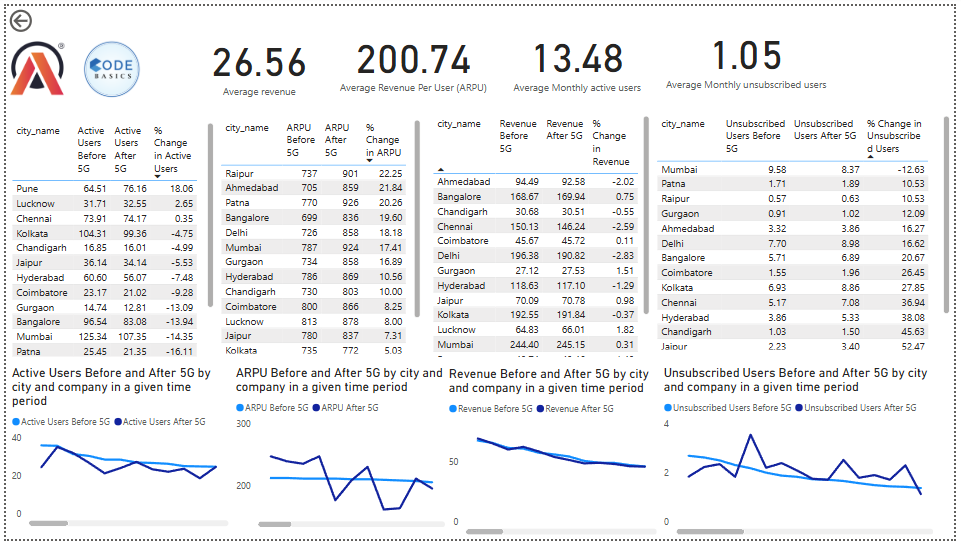

What the dashboard file says about the page in this screenshot:
{"tool":"powerbi","page":{"name":"Before and after 5G (users/revenue)","canvas":[1280,720],"ordinal":0},"visuals":[{"type":"card","fields":{"Values":["fact_atliqo_metrics.Average revenue"]},"box":[247.1,10,190,135.7],"z":0},{"type":"image","box":[0,40.4,86.2,86.2],"z":1000},{"type":"image","box":[77.2,40.4,132.9,89.8],"z":2000},{"type":"card","fields":{"Values":["fact_atliqo_metrics.Monthly unsubscribed users"]},"box":[884.3,0,232.9,135.7],"z":3000},{"type":"card","fields":{"Values":["fact_atliqo_metrics.Monthly active users"]},"box":[668.6,4.3,205.7,135.7],"z":4000},{"type":"card","fields":{"Values":["fact_atliqo_metrics.Average Revenue ARPU"]},"box":[441.4,4.3,217.1,137.1],"z":5000},{"type":"lineChart","title":"Revenue Before and After 5G by city and company in a given time period","fields":{"Y":["fact_atliqo_metrics.Revenue Before 5G","fact_atliqo_metrics.Revenue After 5G"],"Category":["dim_date.time_period","fact_atliqo_metrics.company","dim_cities.city_name"]},"box":[592.9,487.1,291.4,232.9],"z":6000},{"type":"tableEx","fields":{"Values":["dim_cities.city_name","fact_atliqo_metrics.Active Users Before 5G","fact_atliqo_metrics.Active Users After 5G","fact_atliqo_metrics.% Change in Active Users"]},"box":[2.9,152.9,282.9,325.7],"z":7000},{"type":"lineChart","title":"Unsubscribed Users Before and After 5G by city and company in a given time period","fields":{"Y":["fact_atliqo_metrics.Unsubscribed Users Before 5G","fact_atliqo_metrics.Unsubscribed Users After 5G"],"Category":["dim_date.time_period","fact_atliqo_metrics.company","dim_cities.city_name"]},"box":[884.3,485.7,374.3,234.3],"z":8000},{"type":"lineChart","title":"ARPU Before and After 5G by city and company in a given time period","fields":{"Y":["fact_atliqo_metrics.ARPU Before 5G","fact_atliqo_metrics.ARPU After 5G"],"Category":["dim_date.time_period","fact_atliqo_metrics.company","dim_cities.city_name"]},"box":[305.7,485.7,292.9,224.3],"z":9000},{"type":"lineChart","title":"Active Users Before and After 5G by city and company in a given time period","fields":{"Y":["fact_atliqo_metrics.Active Users Before 5G","fact_atliqo_metrics.Active Users After 5G"],"Category":["dim_date.time_period","fact_atliqo_metrics.company","dim_cities.city_name"]},"box":[2.9,485.7,302.9,222.9],"z":10000},{"type":"actionButton","box":[0,0,100,40],"z":11000},{"type":"tableEx","fields":{"Values":["dim_cities.city_name","fact_atliqo_metrics.ARPU Before 5G","fact_atliqo_metrics.ARPU After 5G","fact_atliqo_metrics.% Change in ARPU"]},"box":[285.7,148.6,280,325.7],"z":12000},{"type":"tableEx","fields":{"Values":["dim_cities.city_name","fact_atliqo_metrics.Unsubscribed Users Before 5G","fact_atliqo_metrics.Unsubscribed Users After 5G","fact_atliqo_metrics.% Change in Unsubscribed Users"]},"box":[874.3,142.9,405.7,325.7],"z":13000},{"type":"tableEx","fields":{"Values":["dim_cities.city_name","fact_atliqo_metrics.Revenue Before 5G","fact_atliqo_metrics.Revenue After 5G","fact_atliqo_metrics.% Change in Revenue"]},"box":[571.4,142.9,302.9,335.7],"z":14000}]}

Visuals, with their boxes in screenshot pixels (x1, y1, x2, y2), scaled from the page's 1280x720 canvas onto the 961x549 screenshot:
card - fact_atliqo_metrics.Average revenue: <region>186, 8, 328, 111</region>
image: <region>0, 31, 65, 97</region>
image: <region>58, 31, 158, 99</region>
card - fact_atliqo_metrics.Monthly unsubscribed users: <region>664, 0, 839, 103</region>
card - fact_atliqo_metrics.Monthly active users: <region>502, 3, 656, 107</region>
card - fact_atliqo_metrics.Average Revenue ARPU: <region>331, 3, 494, 108</region>
"Revenue Before and After 5G by city and company in a given time period" lineChart: <region>445, 371, 664, 548</region>
tableEx - dim_cities.city_name x fact_atliqo_metrics.Active Users Before 5G: <region>2, 117, 215, 365</region>
"Unsubscribed Users Before and After 5G by city and company in a given time period" lineChart: <region>664, 370, 945, 548</region>
"ARPU Before and After 5G by city and company in a given time period" lineChart: <region>230, 370, 449, 541</region>
"Active Users Before and After 5G by city and company in a given time period" lineChart: <region>2, 370, 230, 540</region>
actionButton: <region>0, 0, 75, 30</region>
tableEx - dim_cities.city_name x fact_atliqo_metrics.ARPU Before 5G: <region>214, 113, 425, 362</region>
tableEx - dim_cities.city_name x fact_atliqo_metrics.Unsubscribed Users Before 5G: <region>656, 109, 960, 357</region>
tableEx - dim_cities.city_name x fact_atliqo_metrics.Revenue Before 5G: <region>429, 109, 656, 365</region>
